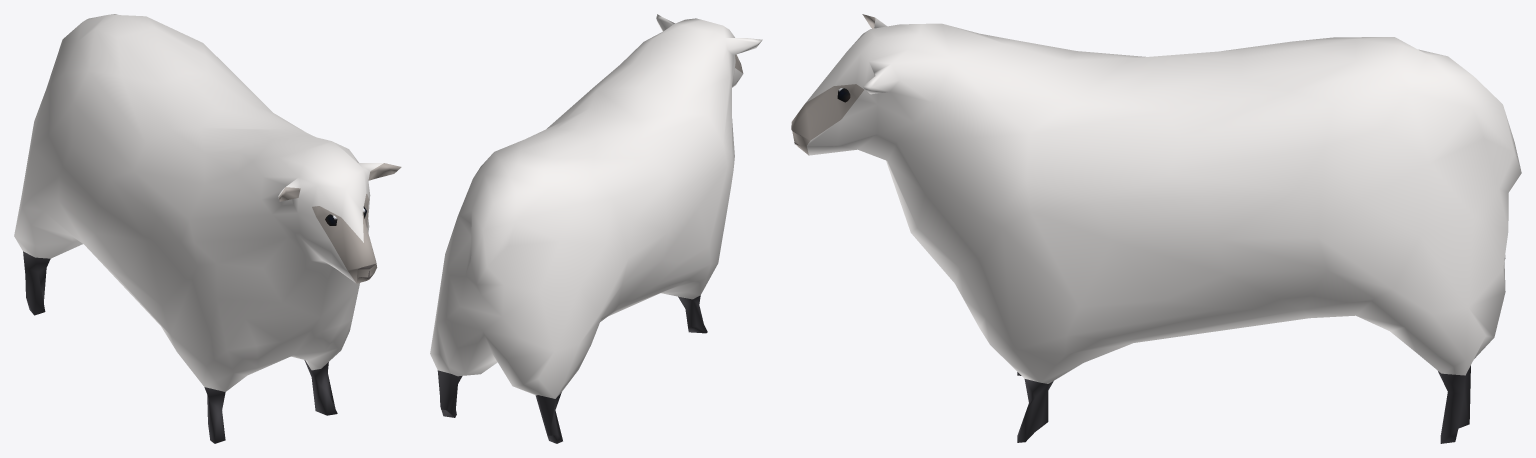
3 renders of one model, left to right at view 1: azimuth 30°, elevation 25°; view 2: azimuth 150°, elevation 25°; view 3: azimuth 270°, elevation 25°, orthographic. The views are drawn at different scales.
Visible parts, largest first — view 1: Sheep; view 2: Sheep; view 3: Sheep.
Part boxes in pixels (x1=…): Sheep: x1=14, y1=14, x2=401, y2=443; Sheep: x1=430, y1=14, x2=762, y2=443; Sheep: x1=791, y1=14, x2=1521, y2=443.
Size of what is drawn, in the model's own units: 0.8045 by 1.23 by 2.16.
1 material, 1 textured.
